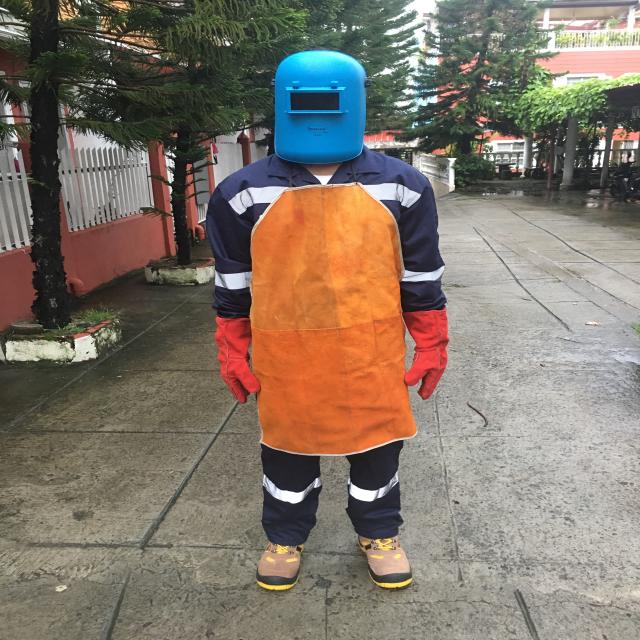with_helmet: (260, 47, 375, 172)
